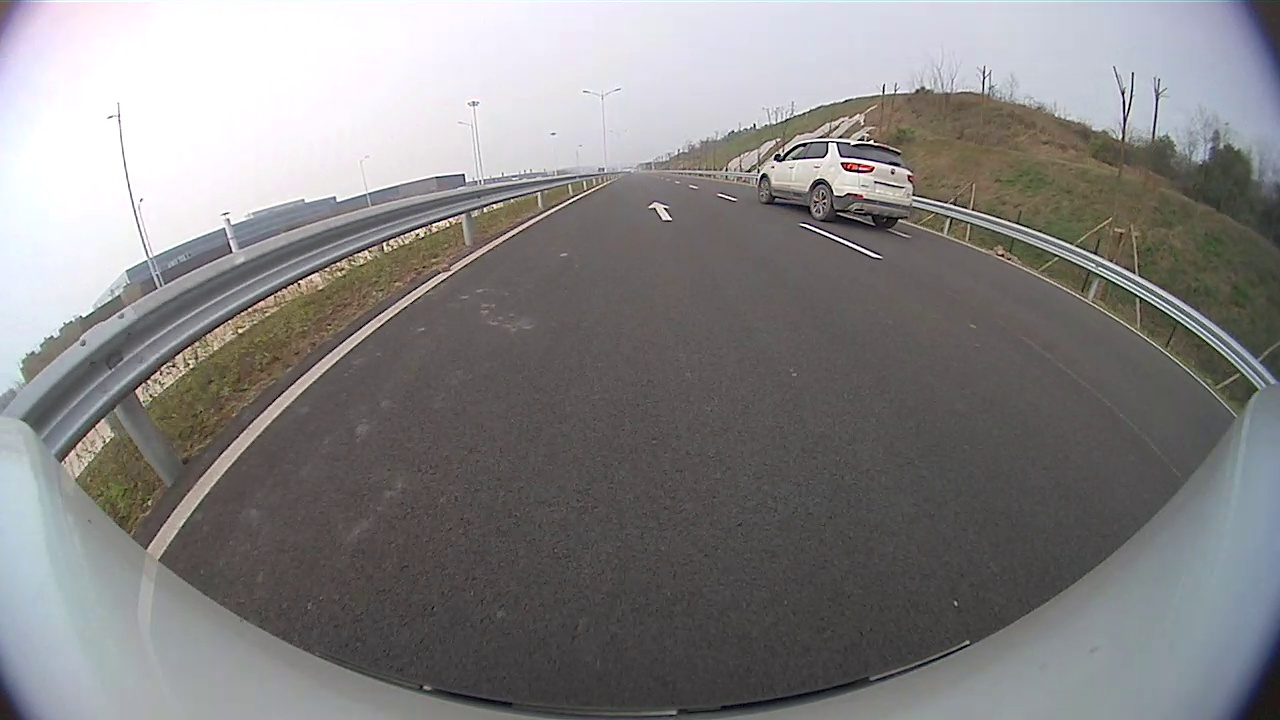car: (755, 138, 915, 230)
front: (756, 175, 774, 204)
rear: (810, 181, 836, 223)
